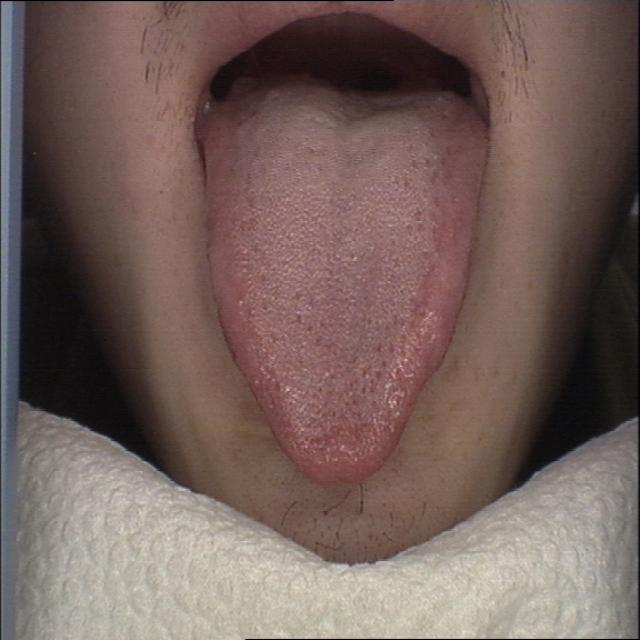tongue: (190, 60, 499, 497)
